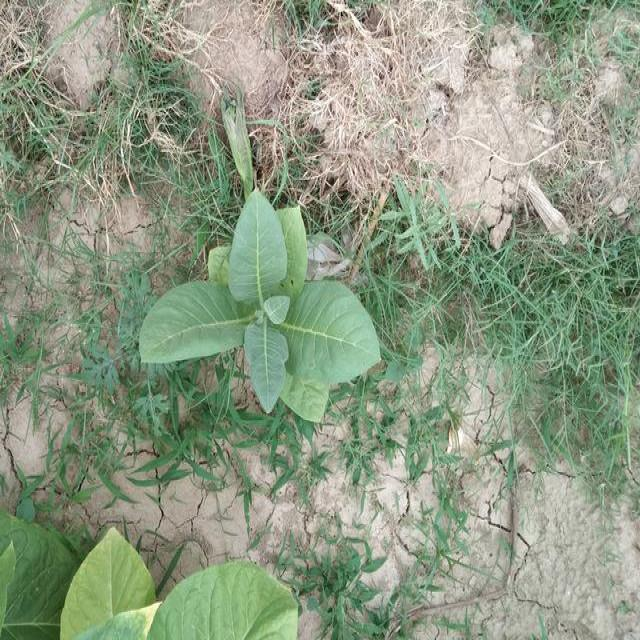crop: (135, 182, 386, 429)
